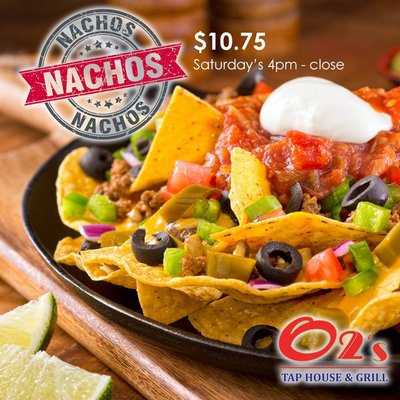sushi: (1, 2, 400, 399)
